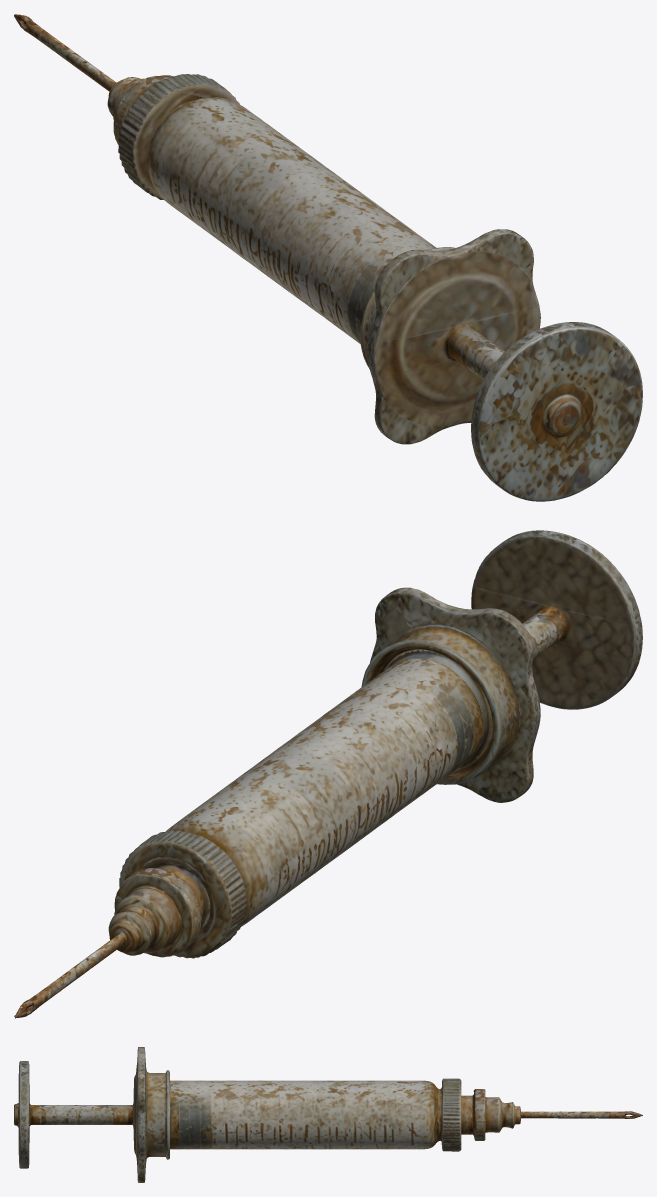
Rendered from Syringe.fbx.
The picture shows the model from 3 angles, top to bottom: view 1: azimuth 30°, elevation 25°; view 2: azimuth 150°, elevation 25°; view 3: azimuth 270°, elevation 25°; orthographic projection. The views are drawn at different scales.
Parts seen in each view (by area): view 1: texture_mapping; view 2: texture_mapping; view 3: texture_mapping.
Part boxes in pixels (x1,y1,x2,y2): texture_mapping: [14, 14, 642, 501]; texture_mapping: [14, 530, 642, 1018]; texture_mapping: [14, 1047, 642, 1182].
Size of the model in its own units: 0.1727 by 0.9812 by 0.1856.
1 material, 1 textured.
